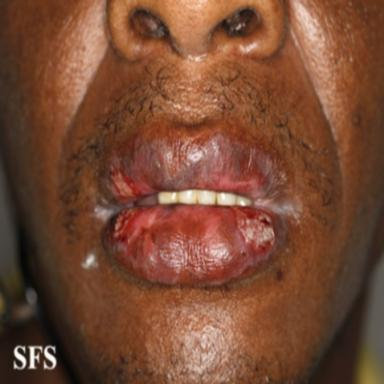lichen: (102, 196, 303, 286), (100, 134, 293, 204)
